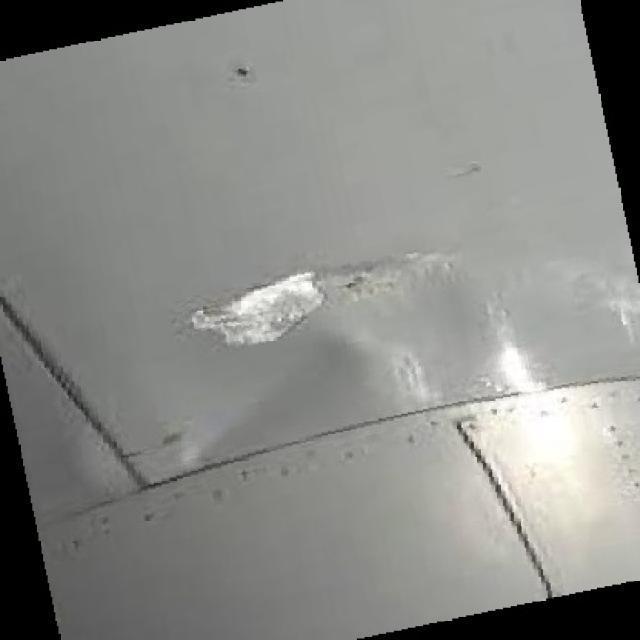dent: (196, 247, 458, 349), (326, 327, 435, 412), (475, 289, 537, 398)
